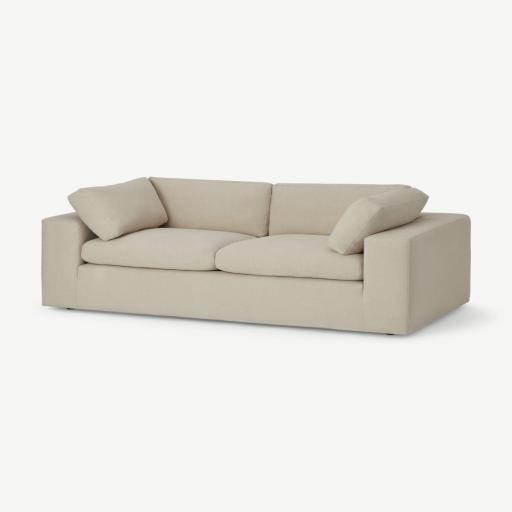back_cushion: (68, 177, 427, 256)
base: (76, 264, 362, 331)
left_arm: (363, 214, 470, 334)
right_arm: (42, 213, 94, 307)
seat_cushion: (81, 227, 363, 281)
two-seater: (0, 0, 511, 512)
